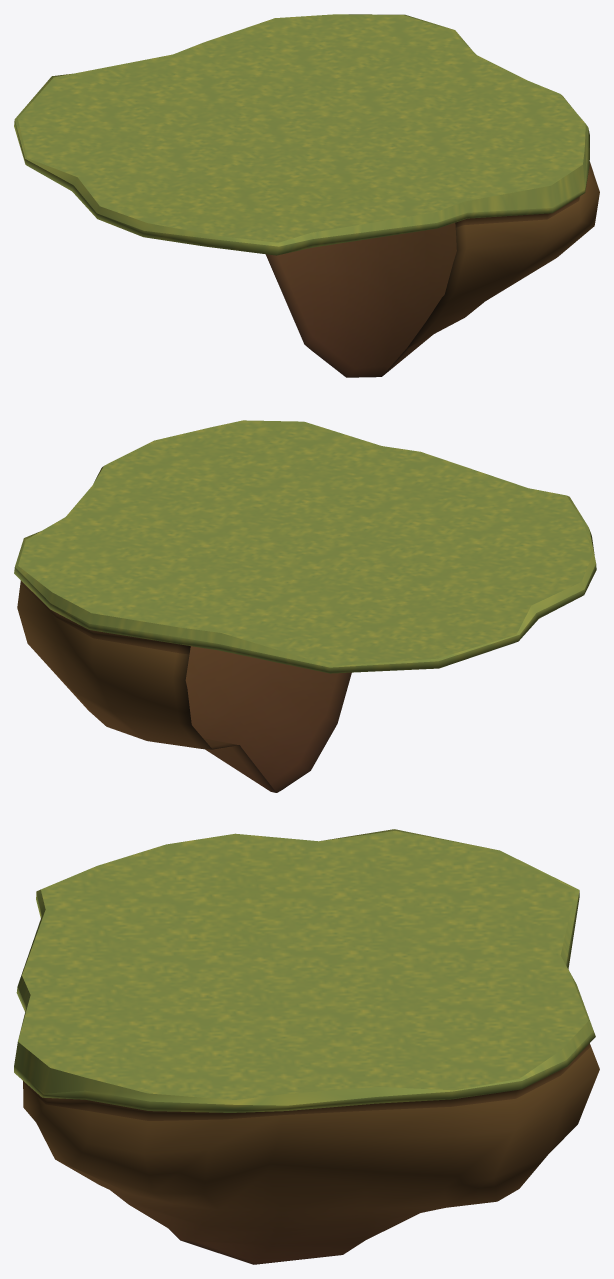
Rendered from obj_IsleSmall.fbx.
The picture shows the model from 3 angles, top to bottom: view 1: azimuth 30°, elevation 25°; view 2: azimuth 150°, elevation 25°; view 3: azimuth 270°, elevation 25°; orthographic projection. The views are drawn at different scales.
Visible parts, largest first — view 1: obj_IsleSmall; view 2: obj_IsleSmall; view 3: obj_IsleSmall.
Boxes of the visible parts, box(x1,y1,x2,y2) form: obj_IsleSmall: box(14, 14, 599, 377); obj_IsleSmall: box(14, 420, 596, 792); obj_IsleSmall: box(14, 829, 599, 1264).
Size of the model in its own units: 5829 by 2895 by 5302.
